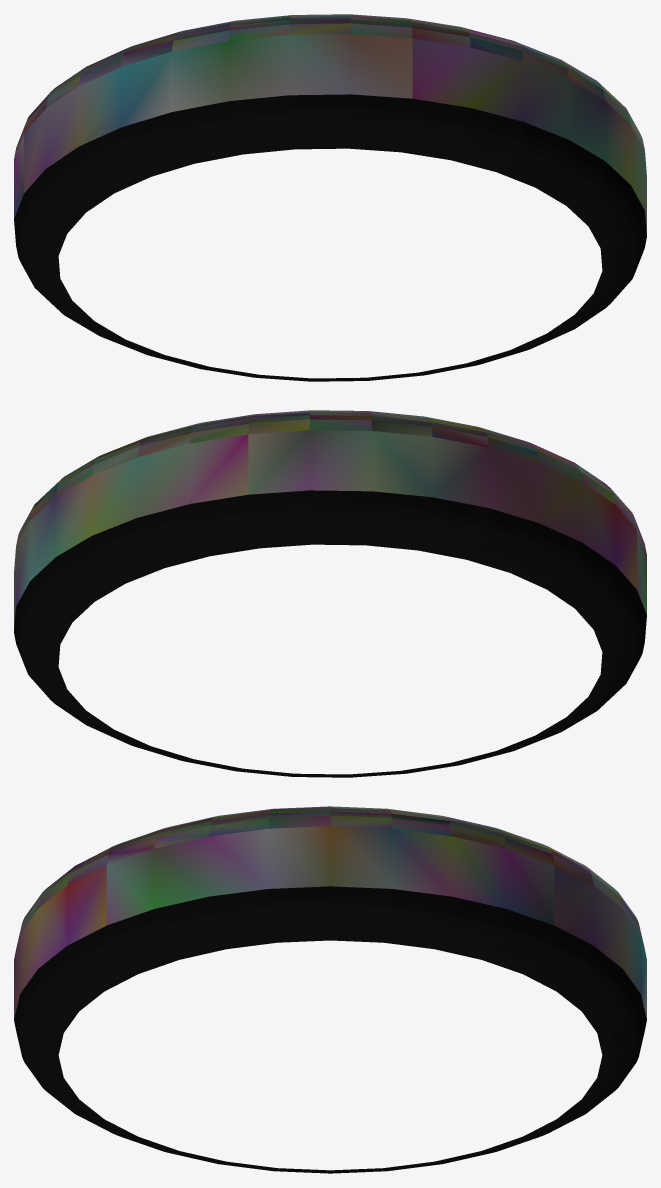
Rendered from breakout_wall.gltf.
3 views of the same model, one above another, from view 1: azimuth 30°, elevation 25°; view 2: azimuth 150°, elevation 25°; view 3: azimuth 270°, elevation 25° (orthographic).
Parts seen in each view (by area): view 1: breakout_wall; view 2: breakout_wall; view 3: breakout_wall.
Part boxes in pixels (x1,y1,x2,y2): breakout_wall: (14,14,646,381); breakout_wall: (14,410,646,777); breakout_wall: (14,806,646,1173).
Size of the model in its own units: 229 by 52.24 by 229.
